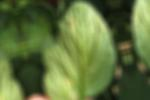Tomato mold leaf: (23, 0, 127, 100)
